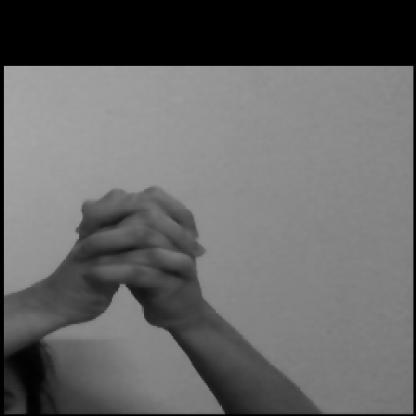prayer: (42, 158, 234, 369)
